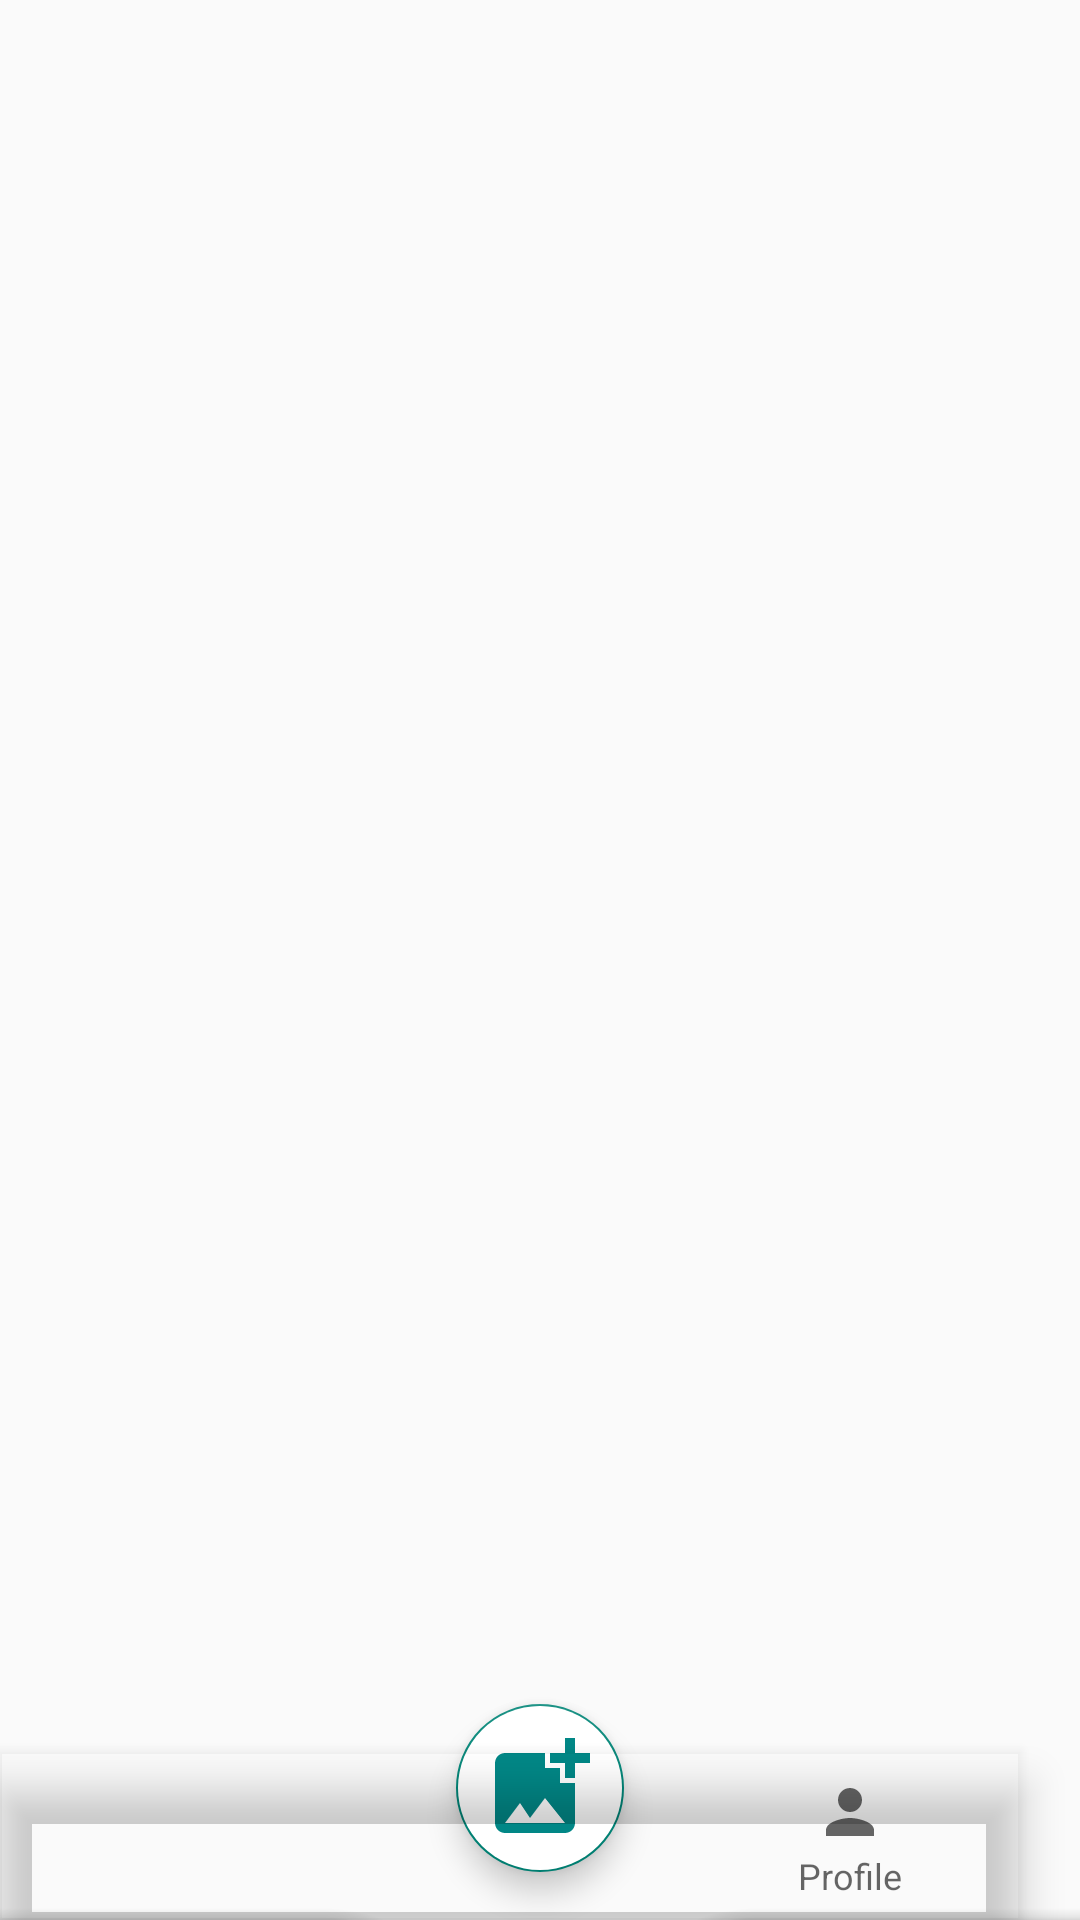

Where to tap for icons on this 1080x1920 app screen, as [x,y]:
add photo alternate: [540,1788]
